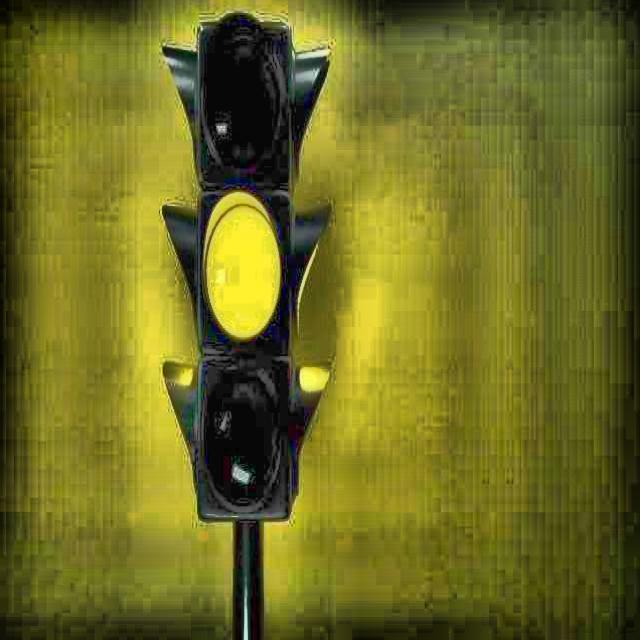yellow: (193, 26, 295, 521)
